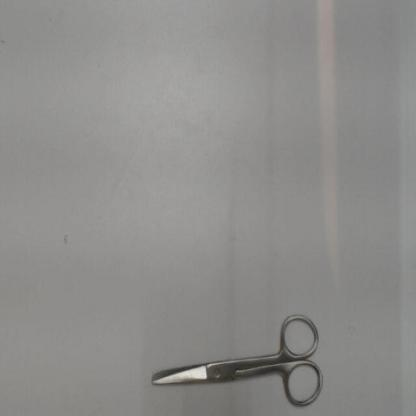Dressing Scissors: (145, 303, 330, 412)
